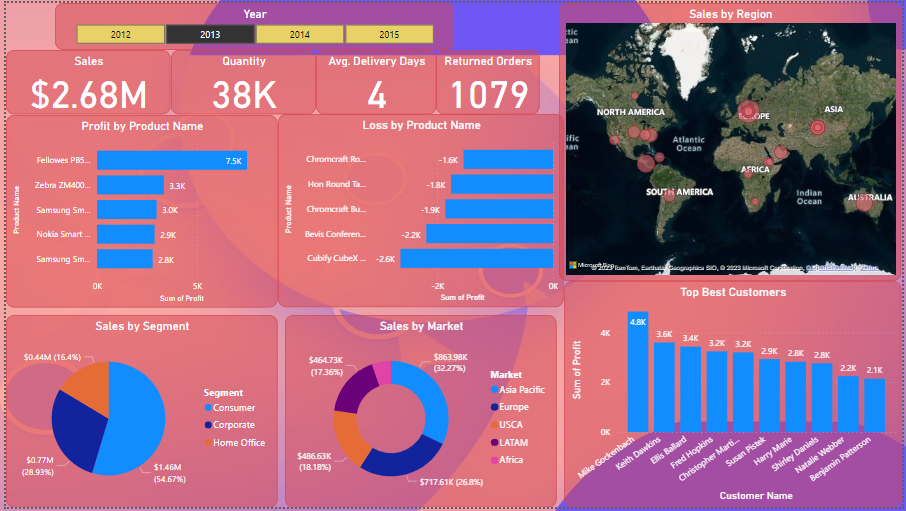

What the dashboard file says about the page in this screenshot:
{"tool":"powerbi","page":{"name":"Dashboard 1","canvas":[1280,720],"ordinal":0},"visuals":[{"type":"card","title":"Sales","fields":{"Values":["Orders.Sales"]},"box":[0,67.2,235.1,92],"z":0},{"type":"card","title":"Quantity","fields":{"Values":["Orders.Quantity"]},"box":[235.1,67.2,207.4,92],"z":1000},{"type":"card","title":"Avg. Delivery Days","fields":{"Values":["Orders.Delivery Days"]},"box":[442.5,67.2,172.3,92],"z":2000},{"type":"slicer","title":"Year","fields":{"Values":["Orders.Year"]},"box":[70.1,0,569.6,67.2],"z":3000},{"type":"card","title":"Returned Orders","fields":{"Values":["Returns.Return Orders"]},"box":[614.8,67.2,147.5,92],"z":4000},{"type":"map","title":"Sales by Region","fields":{"Category":["Orders.Region"],"Size":["Orders.Sales"]},"box":[790.1,0,489.2,397.2],"z":5000},{"type":"clusteredBarChart","title":"Profit by Product Name","fields":{"Category":["Orders.Product Name"],"Y":["Orders.Profit"]},"box":[0,159.7,388.1,275.3],"z":6000},{"type":"clusteredBarChart","title":"Loss by Product Name","fields":{"Category":["Orders.Product Name"],"Y":["Orders.Profit"]},"box":[388.5,159.1,408.4,275.8],"z":7000},{"type":"pieChart","title":"Sales by Segment","fields":{"Category":["Orders.Segment"],"Y":["Orders.Sales"]},"box":[0,445,388,275],"z":8000},{"type":"donutChart","title":"Sales by Market","fields":{"Y":["Orders.Sales"],"Category":["Orders.Market"]},"box":[398.7,445.4,388.5,274.6],"z":9000},{"type":"columnChart","title":"Top Best Customers ","fields":{"Category":["Orders.Customer Name"],"Y":["Orders.Profit"]},"box":[797.4,397.2,481.9,322.8],"z":10000}]}

Visuals, with their boxes in screenshot pixels (x1, y1, x2, y2), scaled from the page's 1280x720 canvas onto the 906x511 screenshot:
"Sales" card: bbox=[0, 48, 166, 113]
"Quantity" card: bbox=[166, 48, 313, 113]
"Avg. Delivery Days" card: bbox=[313, 48, 435, 113]
"Year" slicer: bbox=[50, 0, 453, 48]
"Returned Orders" card: bbox=[435, 48, 540, 113]
"Sales by Region" map: bbox=[559, 0, 905, 282]
"Profit by Product Name" clusteredBarChart: bbox=[0, 113, 275, 309]
"Loss by Product Name" clusteredBarChart: bbox=[275, 113, 564, 309]
"Sales by Segment" pieChart: bbox=[0, 316, 275, 510]
"Sales by Market" donutChart: bbox=[282, 316, 557, 510]
"Top Best Customers " columnChart: bbox=[564, 282, 905, 510]
